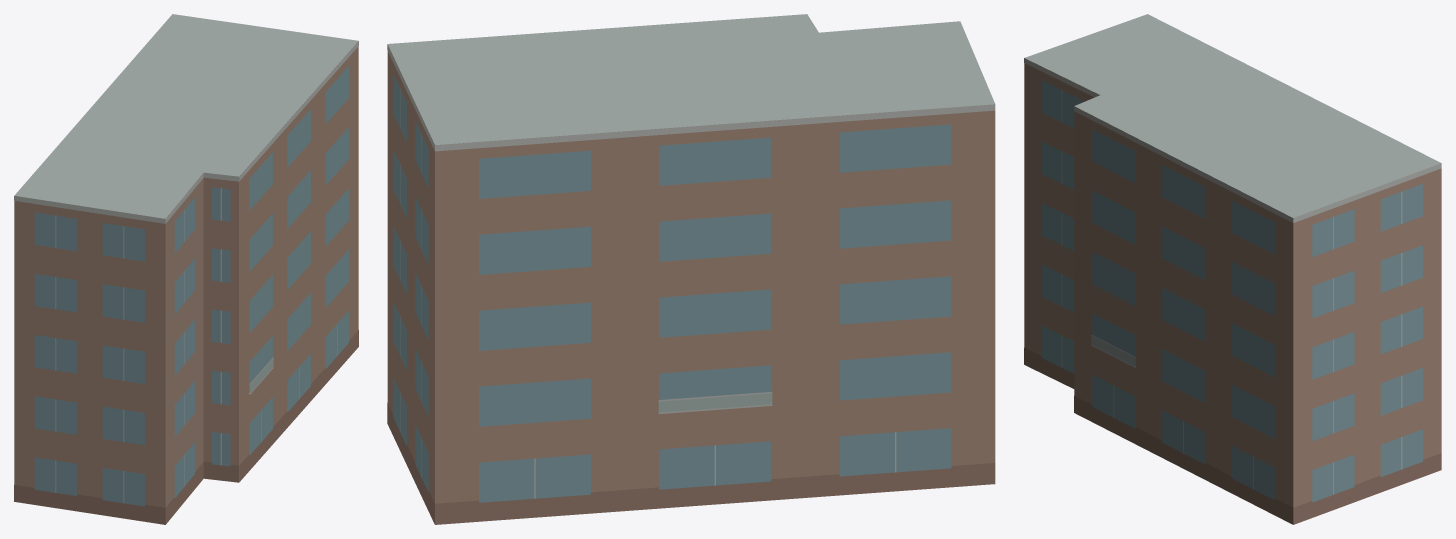
The model's file is survey-upis-32996380.glb.
The picture shows the model from 3 angles, left to right: view 1: azimuth 30°, elevation 25°; view 2: azimuth 150°, elevation 25°; view 3: azimuth 270°, elevation 25°; orthographic projection. The views are drawn at different scales.
Parts seen in each view (by area): view 1: survey-upis-32996380.tmp; view 2: survey-upis-32996380.tmp; view 3: survey-upis-32996380.tmp.
Part boxes in pixels (<box>): survey-upis-32996380.tmp: <box>14,14,358,524</box>; survey-upis-32996380.tmp: <box>387,14,995,524</box>; survey-upis-32996380.tmp: <box>1024,14,1441,524</box>.
Size of the model in its own units: 21.1 by 14.78 by 18.24.
